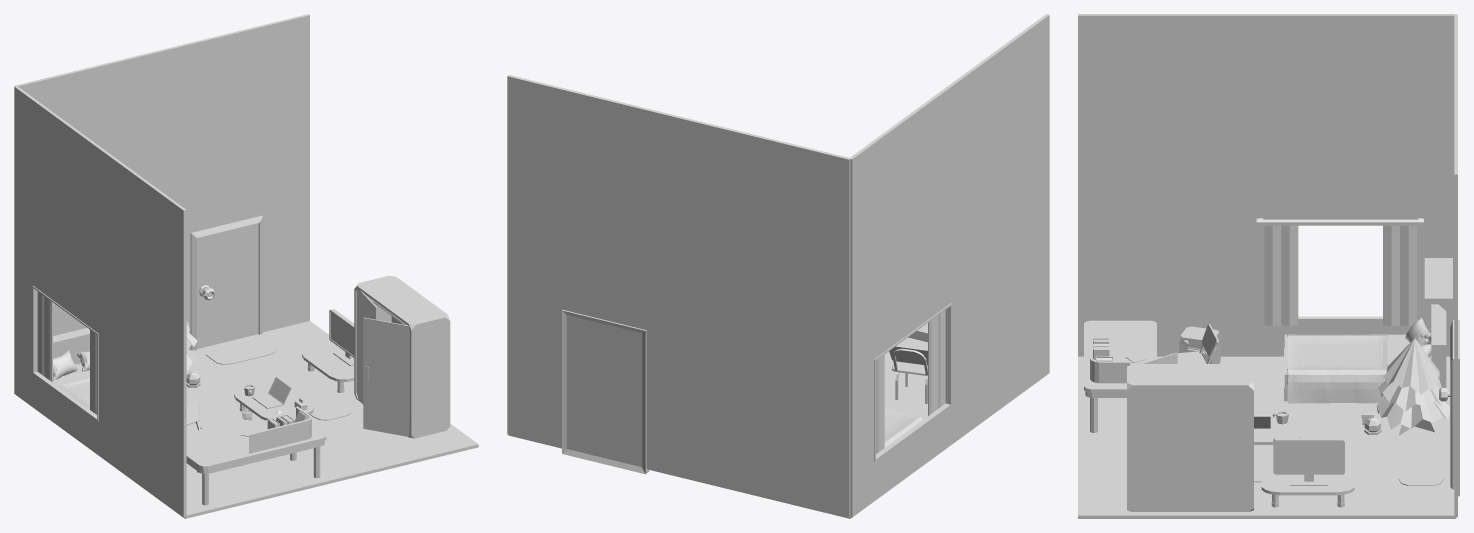
Rendered from plusroom.glb.
The picture shows the model from 3 angles, left to right: view 1: azimuth 30°, elevation 25°; view 2: azimuth 150°, elevation 25°; view 3: azimuth 270°, elevation 25°; orthographic projection. The views are drawn at different scales.
Visible parts, largest first — view 1: Cube.002, Wall1, Cube, Plane.008, Cube.003, Plane.015, Plane.004, Cylinder.001, Cube.001, Plane.019, Plane.007, Plane.003 (+6 smaller); view 2: Wall1, Cube.002, Cube.003, Cylinder.001, Cube, Plane.015, Plane.025, Cube.001; view 3: Cube.002, Cube, Plane.008, Cube.001, Cylinder.001, Plane.005, Plane.004, Plane.006, Plane.007, Wall1, Plane.011, Plane.012 (+7 smaller).
Boxes of the visible parts, x1,y1,x2,y2 form: Cube.002: (14,86,186,517); Wall1: (15,14,309,349); Cube: (16,321,478,518); Plane.008: (354,275,450,438); Cube.003: (16,14,309,348); Plane.015: (190,215,263,350); Plane.004: (186,414,326,505); Cylinder.001: (37,291,97,414); Cube.001: (53,328,89,409); Plane.019: (249,406,311,453); Plane.007: (302,342,354,392); Plane.003: (234,381,313,420); Wall1: (507,75,850,517); Cube.002: (849,14,1049,517); Cube.003: (507,75,850,516); Cylinder.001: (876,310,945,453); Cube: (508,337,1046,518); Plane.015: (562,310,649,474); Plane.025: (889,345,927,403); Cube.001: (884,408,924,447); Cube.002: (1078,14,1456,356); Cube: (1078,356,1456,518); Plane.008: (1127,352,1253,511); Cube.001: (1284,304,1446,403); Cylinder.001: (1256,218,1423,325); Plane.005: (1376,338,1449,435); Plane.004: (1084,320,1156,432); Plane.006: (1273,438,1344,485); Plane.007: (1261,466,1354,507); Wall1: (1454,14,1457,517); Plane.011: (1398,453,1443,485); Plane.012: (1424,258,1452,314).
Size of the model in its own units: 20.15 by 20.29 by 20.2.
5 materials, 1 textured.
